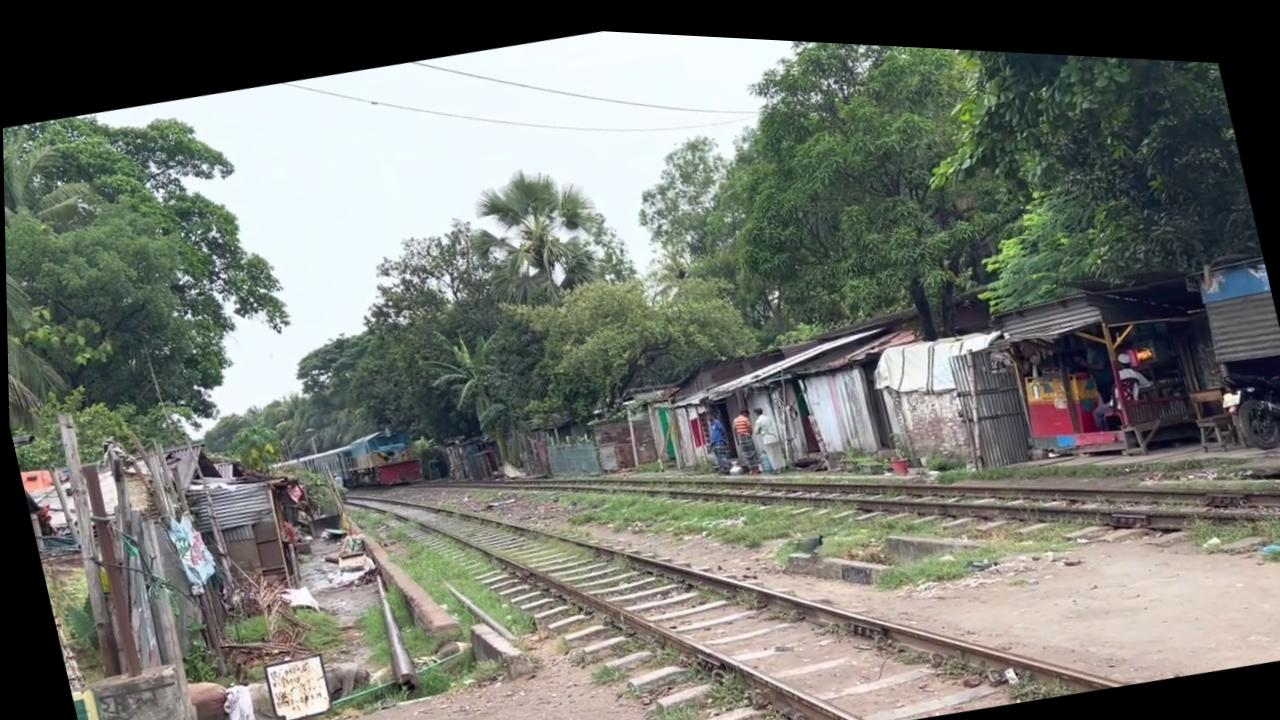Curb: (1213, 346, 1280, 443)
Fence: (746, 395, 782, 468), (726, 398, 760, 469), (699, 401, 732, 469)
Garbage: (41, 410, 129, 677), (74, 462, 143, 676)
Motorcycle: (372, 366, 1025, 720)
Pothole: (258, 648, 330, 720)
Potted-plant: (275, 408, 448, 506)
Railroad-crossing: (672, 27, 1043, 372), (1, 77, 314, 484), (451, 145, 617, 317)
